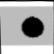correct: (20, 14, 45, 41)
